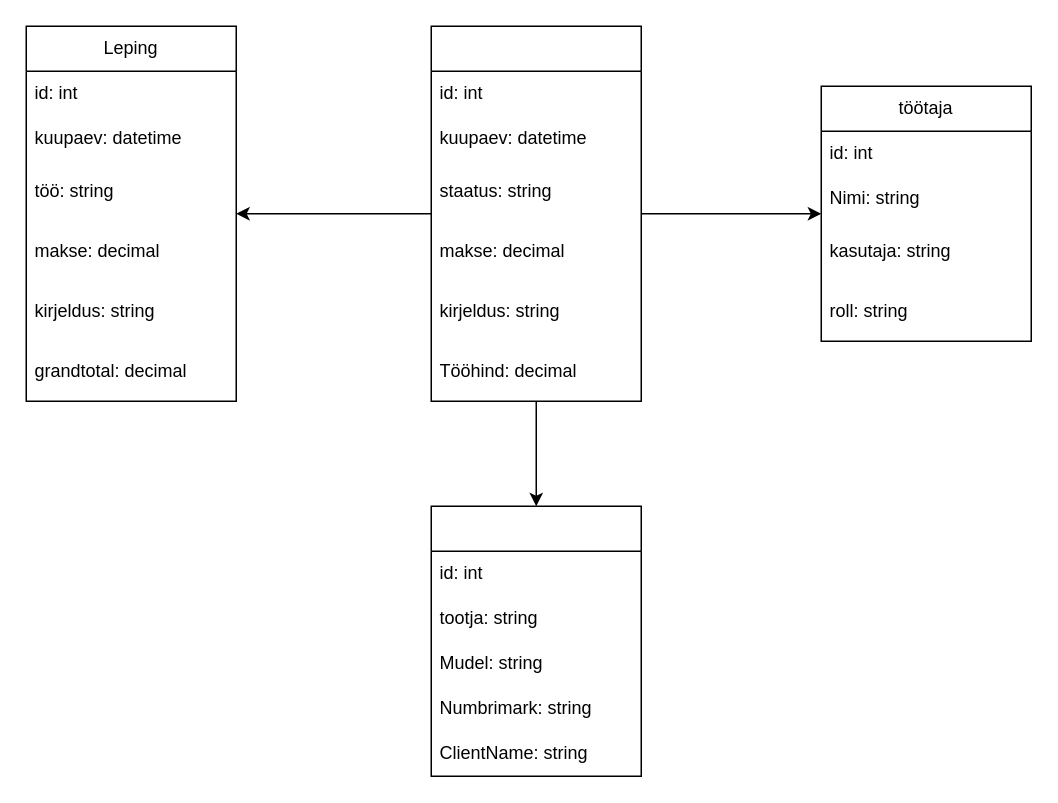
This 1058x803 diagram has some shape labels left out. The box of each missing label's shape, as (x1, y1, x2, y2) in pixels:
auto: (430, 505, 641, 776)
Autopark: (430, 25, 641, 401)
